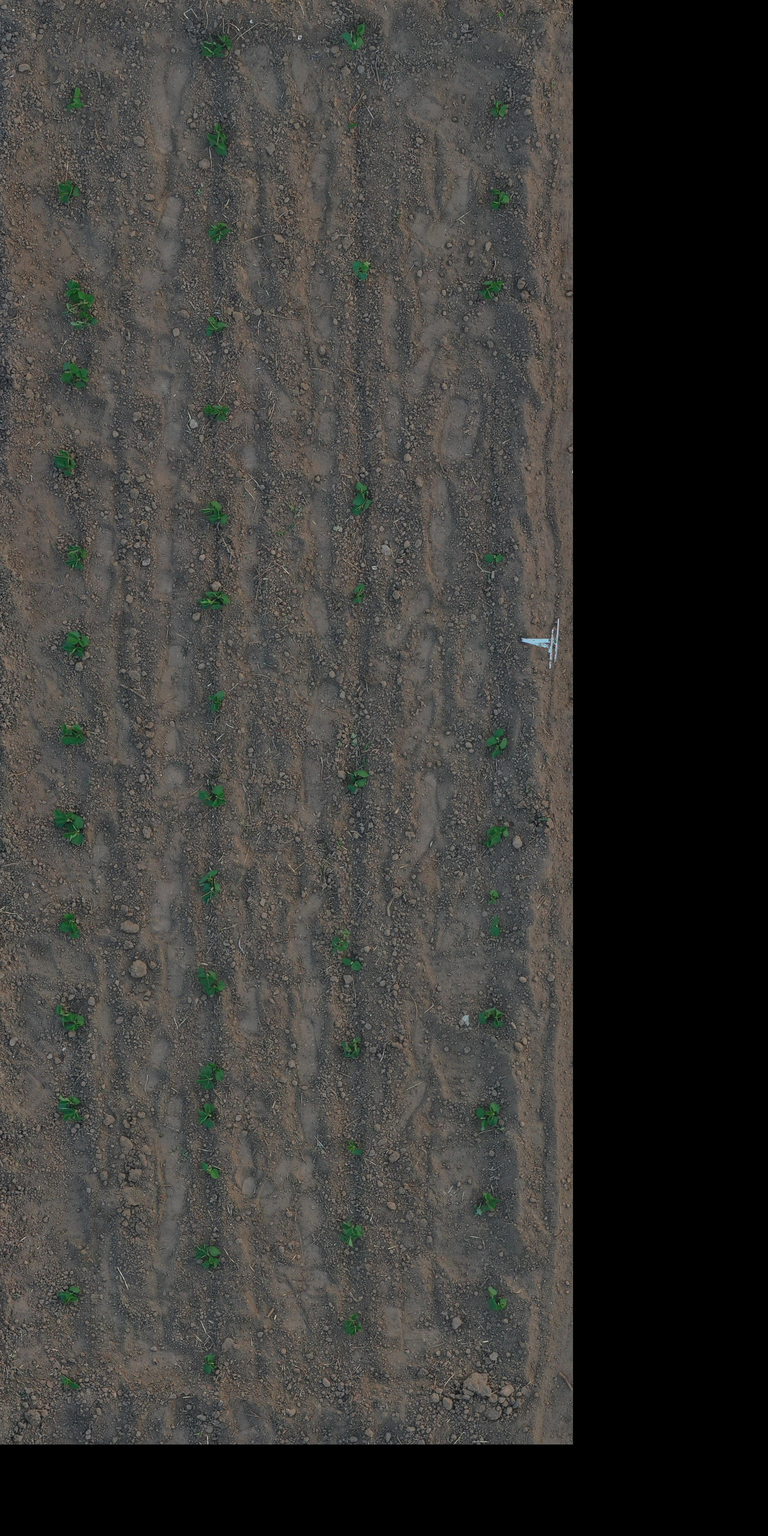s: (194, 1242, 222, 1271), (62, 289, 94, 313), (52, 449, 76, 477), (62, 816, 84, 846), (340, 22, 366, 46), (69, 310, 100, 329), (331, 927, 350, 955), (200, 882, 222, 906), (340, 1216, 365, 1237), (196, 1102, 215, 1129), (195, 966, 218, 988), (206, 133, 227, 157), (60, 360, 80, 385), (53, 808, 77, 828), (195, 1066, 215, 1090), (64, 278, 82, 303), (207, 690, 226, 713), (66, 630, 90, 648), (352, 481, 369, 506), (64, 1011, 85, 1031), (69, 724, 87, 747), (350, 499, 374, 516), (204, 590, 231, 605), (205, 321, 230, 337), (205, 1061, 225, 1081), (484, 1101, 500, 1126), (480, 1192, 500, 1212), (483, 826, 501, 848), (62, 640, 85, 657), (210, 785, 227, 808), (58, 1107, 84, 1122), (202, 980, 226, 996), (210, 404, 231, 422), (58, 912, 76, 933), (57, 1094, 80, 1110), (200, 44, 226, 58), (201, 1160, 220, 1179), (60, 186, 80, 204), (71, 368, 89, 388), (64, 553, 85, 570), (491, 737, 507, 759), (485, 728, 504, 746), (477, 1006, 496, 1024), (343, 1319, 362, 1337), (211, 227, 231, 244), (206, 512, 230, 526), (60, 1374, 81, 1390), (202, 1353, 217, 1375), (58, 1286, 80, 1301), (208, 222, 228, 238), (55, 1004, 71, 1024), (198, 869, 218, 885), (347, 778, 367, 794), (197, 598, 223, 610), (476, 1107, 489, 1131), (352, 582, 366, 604), (340, 957, 362, 971), (338, 1234, 360, 1248), (57, 180, 73, 199), (67, 545, 86, 561), (340, 1041, 356, 1060), (490, 195, 510, 210), (214, 123, 227, 146), (491, 100, 508, 117), (488, 1286, 504, 1304), (59, 723, 72, 745), (490, 915, 502, 938), (482, 280, 503, 293), (217, 33, 233, 50), (198, 790, 214, 807), (346, 1139, 362, 1156), (200, 500, 222, 512), (346, 769, 370, 780), (488, 1297, 508, 1310), (348, 1036, 360, 1057), (492, 1008, 504, 1028), (350, 34, 364, 51), (478, 286, 494, 300), (344, 1312, 358, 1328), (484, 552, 504, 563), (203, 404, 217, 418), (494, 825, 509, 838), (66, 101, 85, 111), (487, 889, 499, 904), (491, 188, 508, 198), (62, 1294, 79, 1304), (67, 926, 80, 939), (72, 86, 81, 104), (203, 41, 222, 48), (473, 1204, 483, 1216), (208, 316, 217, 325), (348, 122, 359, 129)
